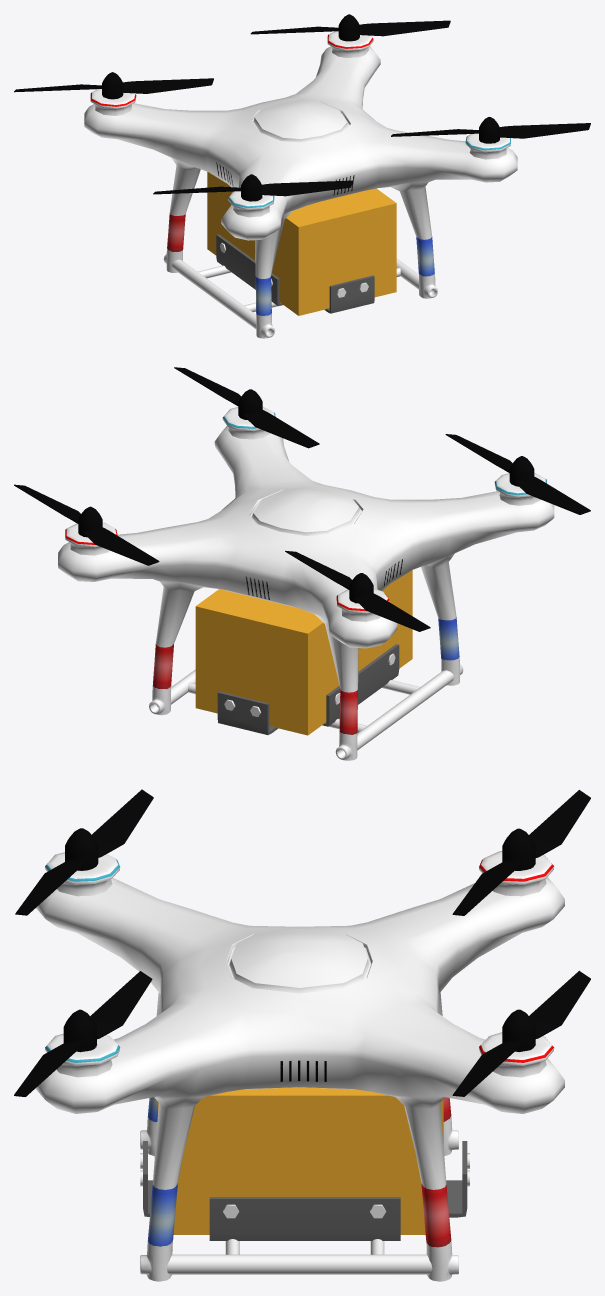
File: amvlab-drone.glb
3 views of the same model, one above another, from view 1: azimuth 30°, elevation 25°; view 2: azimuth 150°, elevation 25°; view 3: azimuth 270°, elevation 25° (orthographic). The views are drawn at different scales.
Parts seen in each view (by area): view 1: drone; view 2: drone; view 3: drone.
Boxes of the visible parts, x1=… form: drone: x1=14, y1=14, x2=590, y2=338; drone: x1=14, y1=367, x2=590, y2=760; drone: x1=14, y1=789, x2=590, y2=1281.
Size of the model in its own units: 0.8235 by 0.3681 by 0.655.
Materials: 1 (1 with a texture image).
